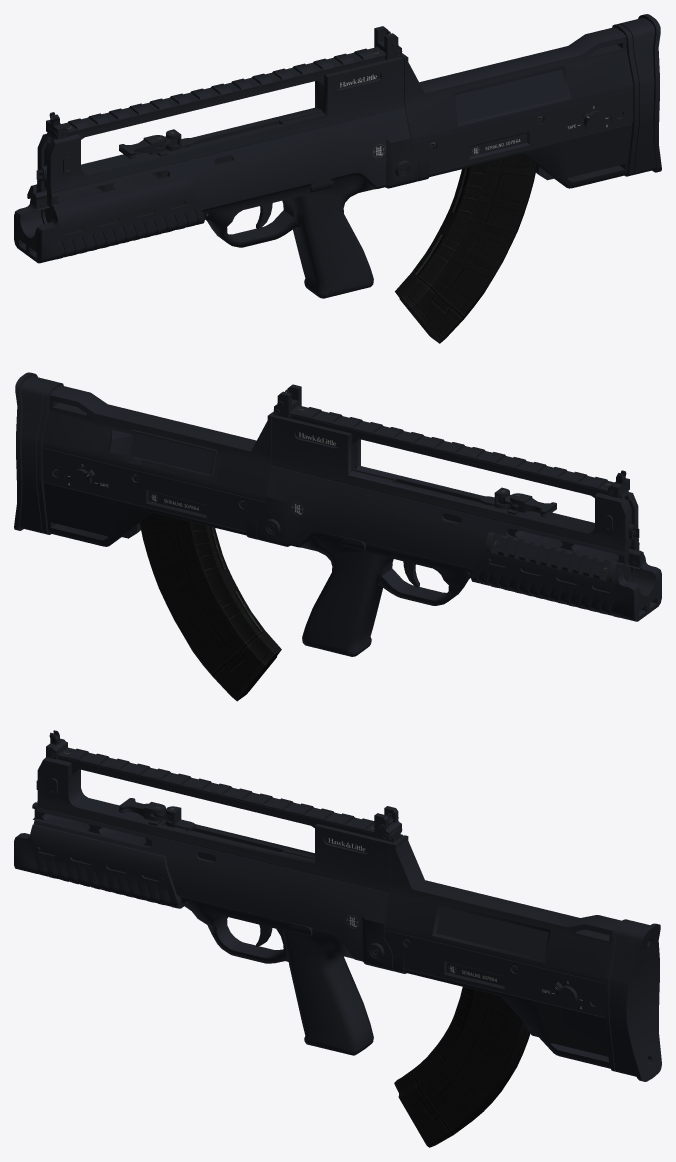
The model's file is weapon_bullpuprifle_mk2.glb.
3 renders of one model, top to bottom at view 1: azimuth 30°, elevation 25°; view 2: azimuth 150°, elevation 25°; view 3: azimuth 330°, elevation 25°, orthographic.
Parts seen in each view (by area): view 1: main_frame_bullpuprifle_mk2, stock_bullpuprifle_mk2, magazine_bullpuprifle_mk2, handguard_bullpuprifle_mk2, grip_bullpuprifle_mk2, rear_sight_bullpuprifle_mk2; view 2: main_frame_bullpuprifle_mk2, stock_bullpuprifle_mk2, magazine_bullpuprifle_mk2, handguard_bullpuprifle_mk2, grip_bullpuprifle_mk2, rear_sight_bullpuprifle_mk2; view 3: stock_bullpuprifle_mk2, main_frame_bullpuprifle_mk2, magazine_bullpuprifle_mk2, grip_bullpuprifle_mk2, handguard_bullpuprifle_mk2, rear_sight_bullpuprifle_mk2.
Boxes of the visible parts, x1,y1,x2,y2 form: main_frame_bullpuprifle_mk2: [32, 47, 419, 224]; stock_bullpuprifle_mk2: [402, 14, 661, 188]; magazine_bullpuprifle_mk2: [395, 154, 536, 343]; handguard_bullpuprifle_mk2: [14, 178, 204, 263]; grip_bullpuprifle_mk2: [203, 175, 373, 298]; rear_sight_bullpuprifle_mk2: [374, 26, 401, 59]; main_frame_bullpuprifle_mk2: [256, 405, 643, 582]; stock_bullpuprifle_mk2: [14, 372, 273, 546]; magazine_bullpuprifle_mk2: [139, 513, 281, 701]; handguard_bullpuprifle_mk2: [471, 532, 661, 621]; grip_bullpuprifle_mk2: [302, 534, 472, 656]; rear_sight_bullpuprifle_mk2: [274, 384, 301, 418]; stock_bullpuprifle_mk2: [385, 835, 661, 1081]; main_frame_bullpuprifle_mk2: [32, 746, 403, 971]; magazine_bullpuprifle_mk2: [394, 987, 530, 1147]; grip_bullpuprifle_mk2: [181, 898, 373, 1055]; handguard_bullpuprifle_mk2: [14, 819, 183, 908]; rear_sight_bullpuprifle_mk2: [374, 806, 401, 841].
Bounding box in the file's own units: 75.01 × 36.71 × 7.41.
3 materials, 3 textured.
